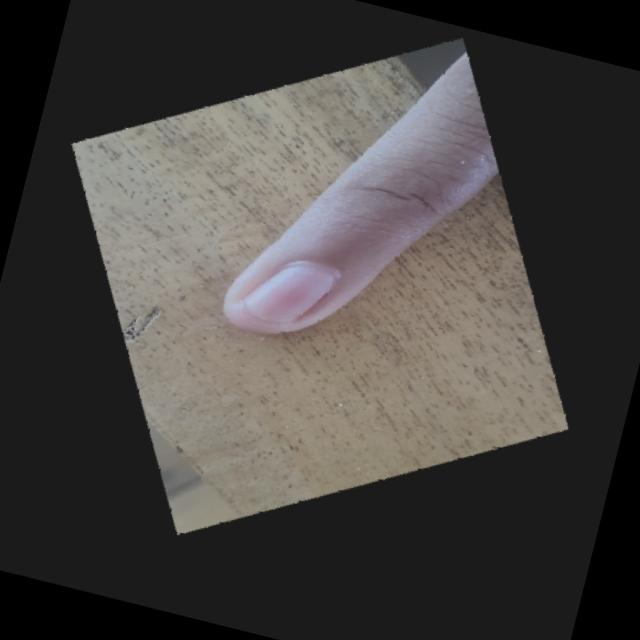Nail: (245, 264, 337, 322)
